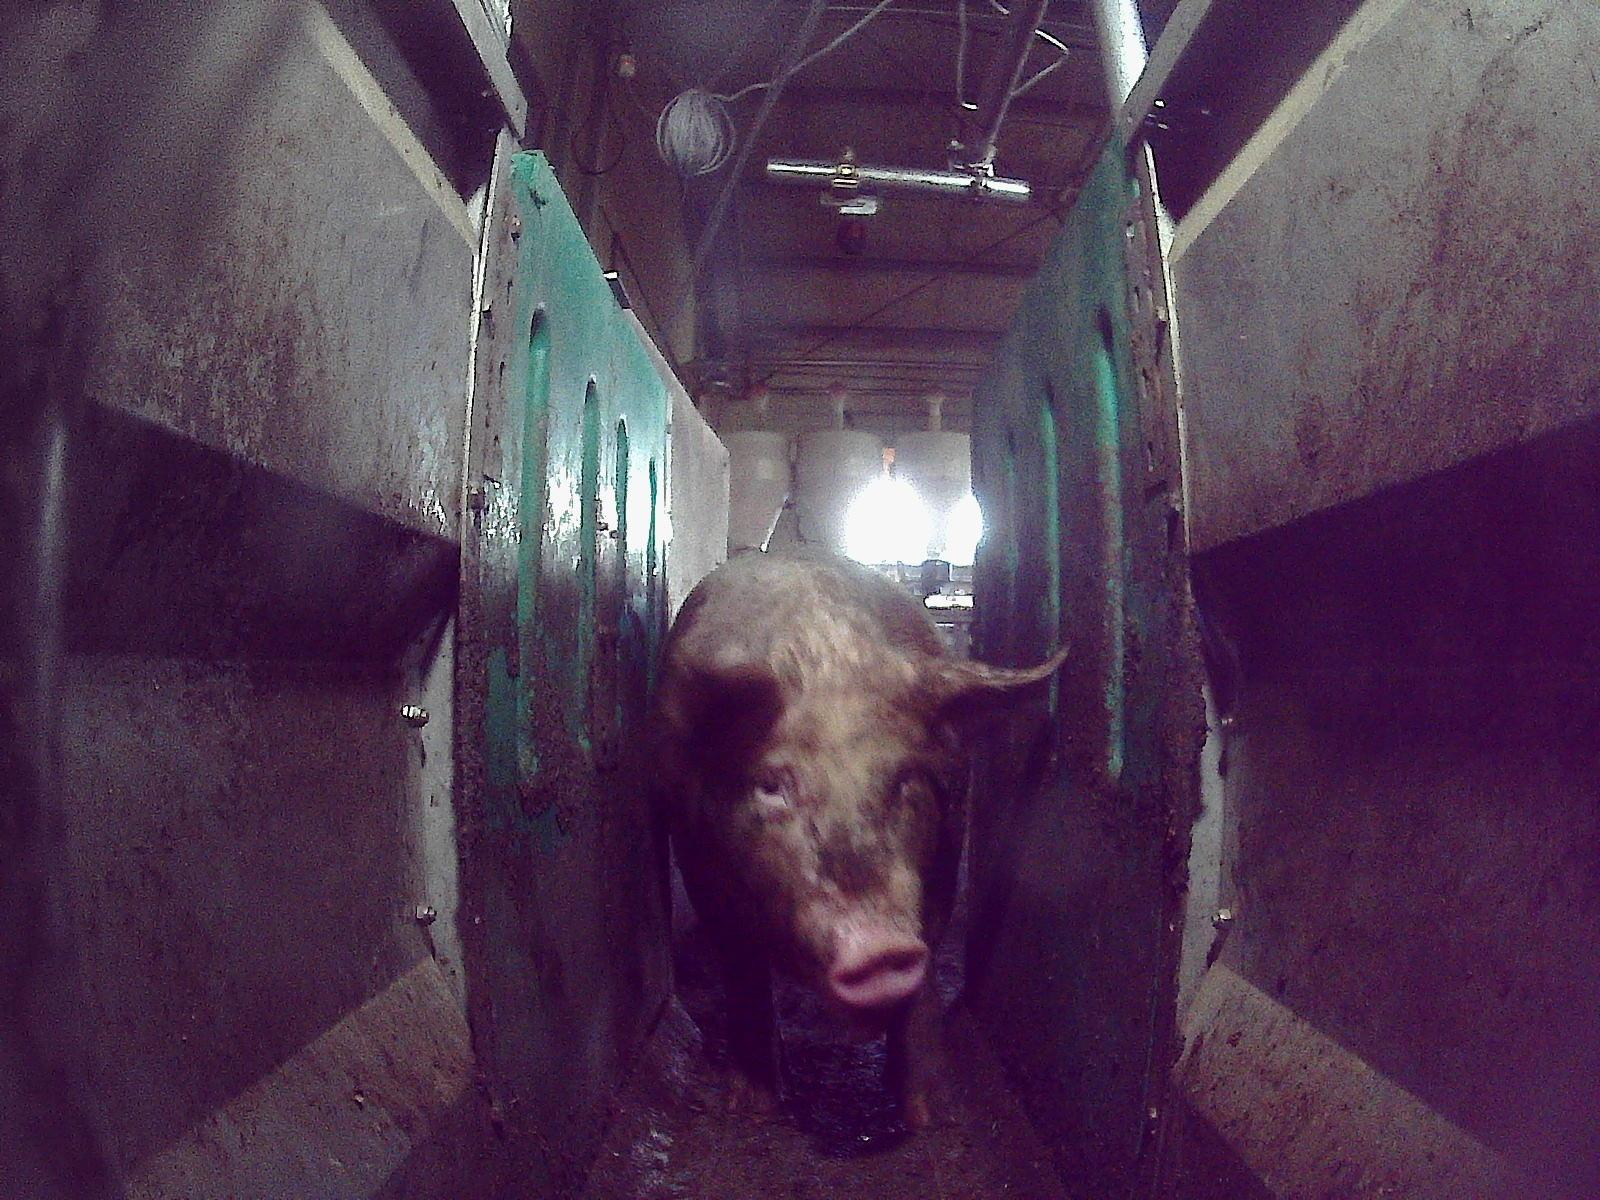Face: (702, 678, 942, 1004)
